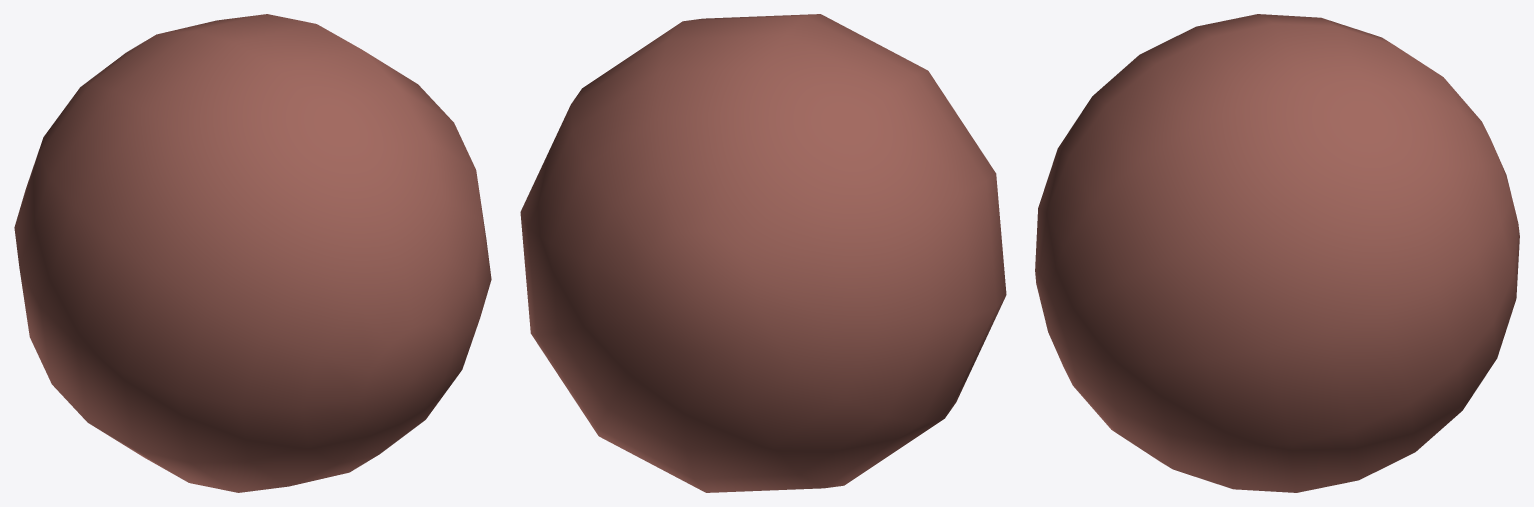
The model's file is mixamo_humanoid_joint_leftHandRing2.fbx.
3 renders of one model, left to right at view 1: azimuth 30°, elevation 25°; view 2: azimuth 150°, elevation 25°; view 3: azimuth 270°, elevation 25°, orthographic. The views are drawn at different scales.
Parts seen in each view (by area): view 1: joint_LeftHandRing2; view 2: joint_LeftHandRing2; view 3: joint_LeftHandRing2.
Boxes of the visible parts, x1,y1,x2,y2 form: joint_LeftHandRing2: [14, 14, 491, 492]; joint_LeftHandRing2: [520, 14, 1006, 492]; joint_LeftHandRing2: [1035, 14, 1519, 492].
Size of the model in its own units: 1.93 by 1.92 by 1.93.
